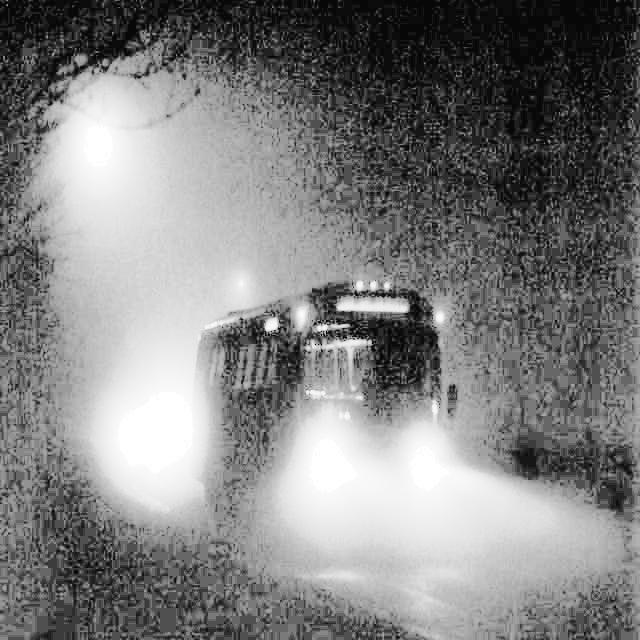Bus: (182, 272, 465, 544)
